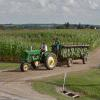Tractor: (11, 37, 89, 77)
